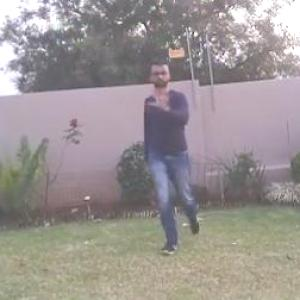follow_hand: (144, 83, 174, 113)
